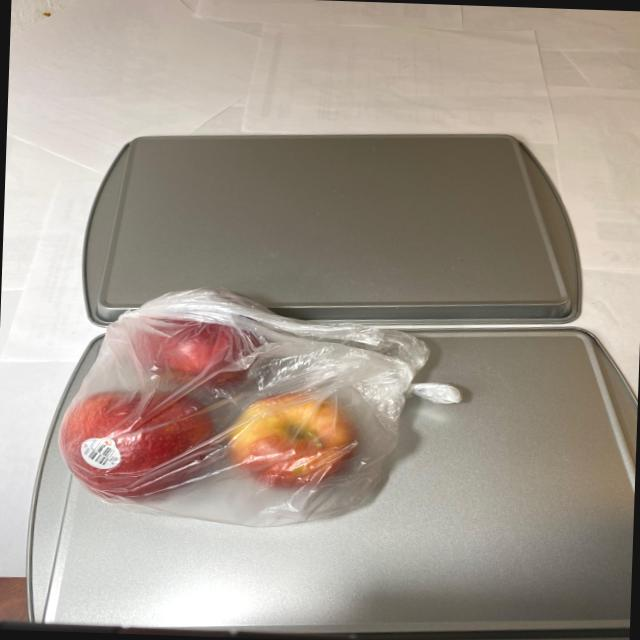apple: (44, 304, 372, 506)
